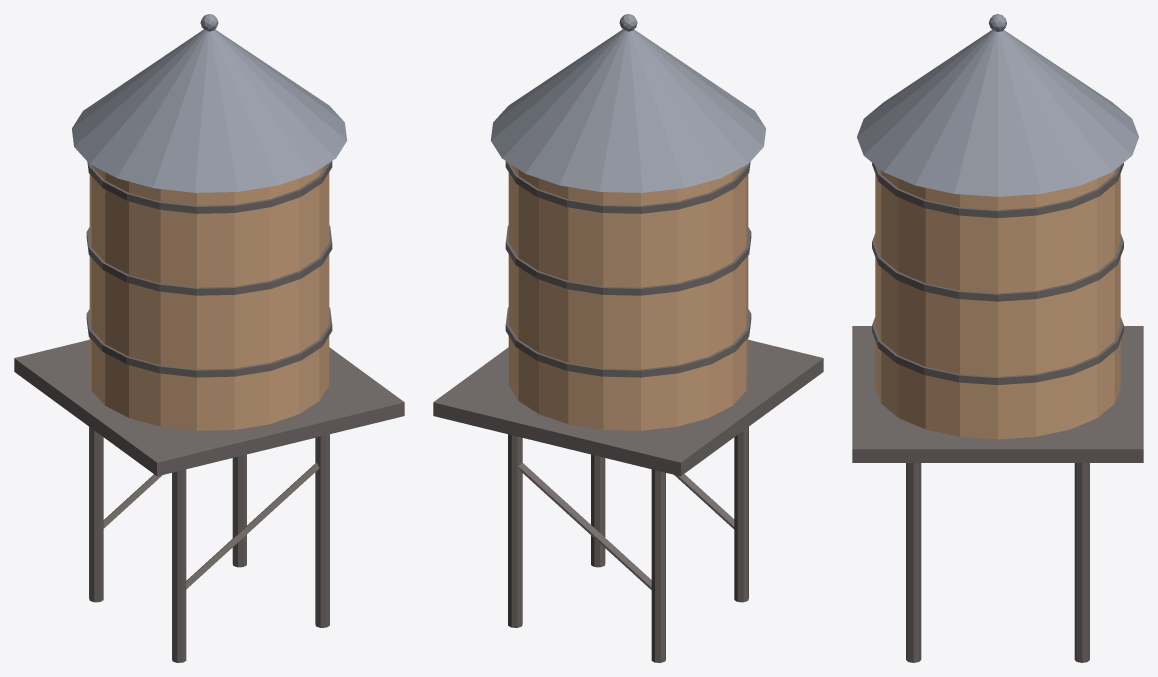
File: water_tower.glb
The picture shows the model from 3 angles, left to right: view 1: azimuth 30°, elevation 25°; view 2: azimuth 150°, elevation 25°; view 3: azimuth 270°, elevation 25°; orthographic projection.
Visible parts, largest first — view 1: water_tower_wood, water_tower_iron, water_tower_tower_roof; view 2: water_tower_wood, water_tower_iron, water_tower_tower_roof; view 3: water_tower_wood, water_tower_tower_roof, water_tower_iron.
Boxes of the visible parts, bbox=[...] form: water_tower_wood: bbox=[89, 165, 329, 430]; water_tower_iron: bbox=[14, 161, 404, 662]; water_tower_tower_roof: bbox=[72, 14, 347, 192]; water_tower_wood: bbox=[508, 165, 748, 430]; water_tower_iron: bbox=[433, 161, 823, 662]; water_tower_tower_roof: bbox=[490, 14, 765, 192]; water_tower_wood: bbox=[875, 168, 1120, 439]; water_tower_tower_roof: bbox=[857, 14, 1138, 196]; water_tower_iron: bbox=[852, 163, 1143, 662].
Bounding box in the file's own units: 1.9 × 4.38 × 1.9.
